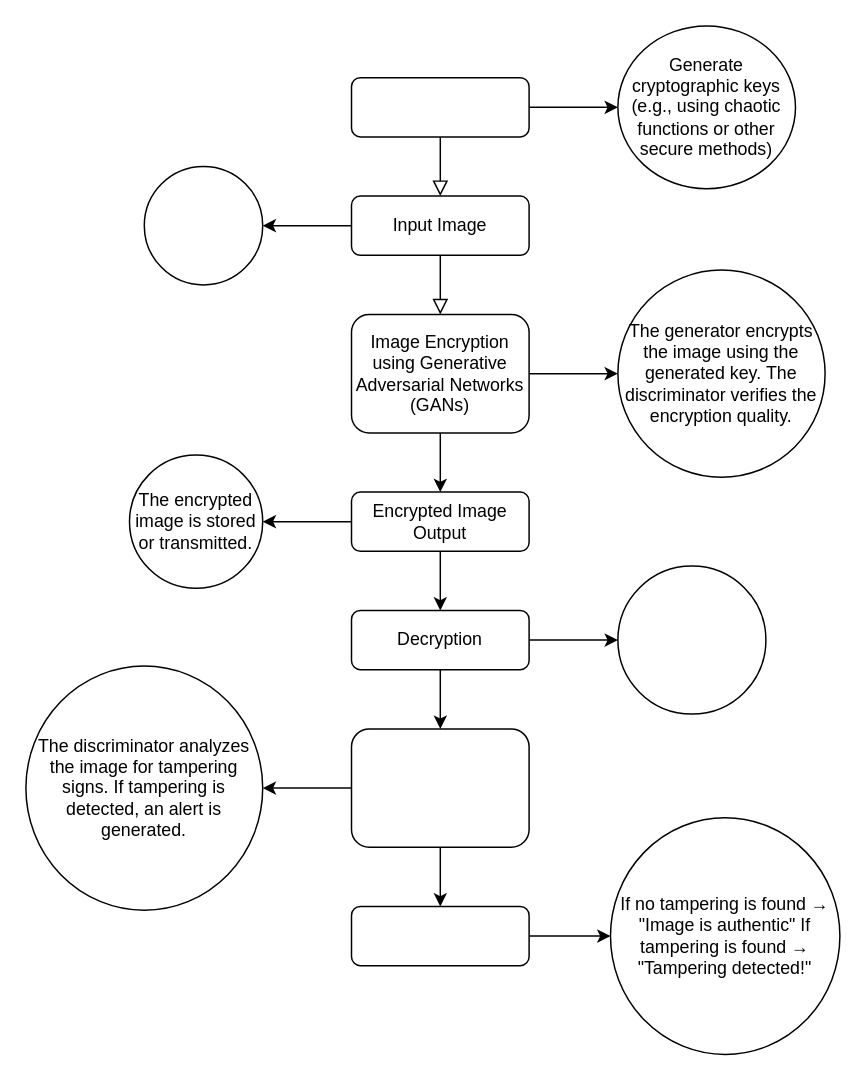
Some shapes in this 866 by 1080 pixel diagram are drawn without their labels. The centre of each missing label's shape, as x and y in pixels:
Key Generation: point 439,106
Output Result: point 439,935
Tampering Detection using Generative Adversarial Networks (GANs): point 439,787
The receiver uses the key to decrypt the image.: point 691,639
User uploads an image for encryption: point 203,225
